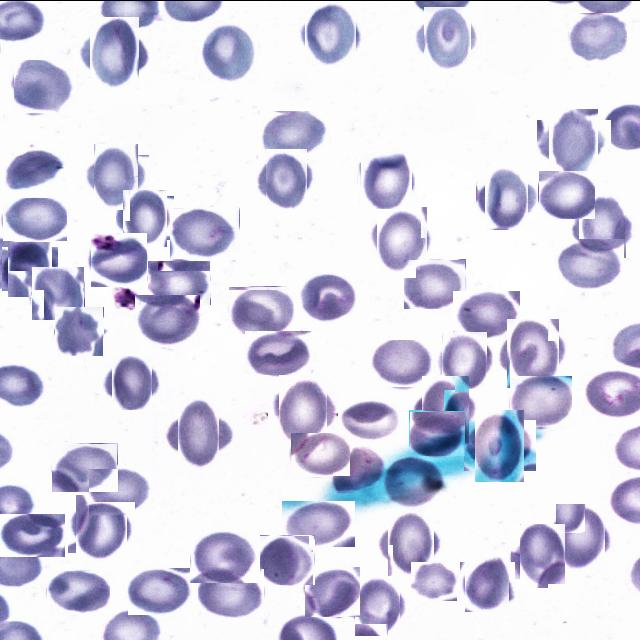red blood cell: (542, 112, 604, 174), (502, 322, 564, 382), (470, 414, 530, 476), (196, 21, 257, 81), (84, 22, 145, 82), (170, 206, 240, 258), (190, 530, 260, 582), (273, 378, 332, 438), (135, 294, 200, 348), (72, 497, 131, 556), (551, 507, 610, 566), (416, 380, 474, 440), (258, 110, 329, 158), (374, 210, 432, 268), (170, 404, 228, 462), (282, 500, 355, 546), (14, 60, 76, 114), (51, 442, 118, 491), (509, 376, 572, 428), (302, 5, 359, 62), (198, 568, 264, 617), (229, 285, 295, 333), (453, 290, 520, 337), (88, 148, 144, 204), (420, 10, 476, 66), (382, 515, 438, 571), (297, 271, 358, 322), (404, 258, 466, 308), (575, 198, 630, 254), (560, 238, 624, 286), (91, 232, 147, 286), (359, 152, 414, 206), (516, 528, 570, 582), (128, 567, 190, 614), (245, 330, 311, 374), (89, 468, 152, 514), (386, 456, 445, 505), (372, 339, 433, 386), (2, 148, 67, 192), (569, 12, 627, 61), (148, 259, 211, 304), (3, 198, 67, 242), (352, 578, 404, 632), (259, 534, 315, 584), (0, 513, 65, 556), (539, 169, 596, 218), (481, 172, 534, 224), (305, 566, 360, 616), (47, 570, 110, 613), (32, 266, 84, 318), (260, 153, 312, 204), (438, 334, 489, 386), (409, 410, 466, 456), (291, 432, 350, 476), (120, 192, 170, 242), (5, 243, 55, 293), (462, 558, 512, 608), (333, 446, 387, 492), (342, 398, 403, 438), (54, 306, 104, 354), (108, 358, 155, 406), (411, 561, 457, 600)
